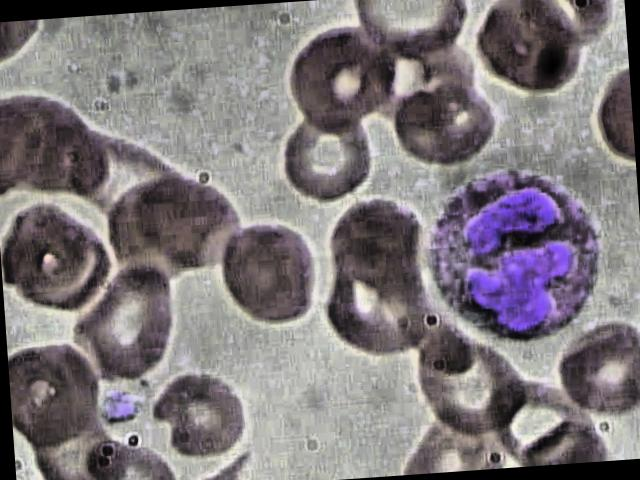Platelets: (96, 388, 146, 431)
RBC: (48, 253, 188, 390), (0, 192, 120, 318), (404, 321, 526, 439), (282, 15, 403, 133), (216, 214, 326, 338), (467, 0, 594, 103), (145, 357, 258, 465), (386, 70, 501, 170), (271, 101, 378, 207), (8, 334, 104, 449), (544, 317, 640, 427)
WBC: (408, 156, 620, 348)
